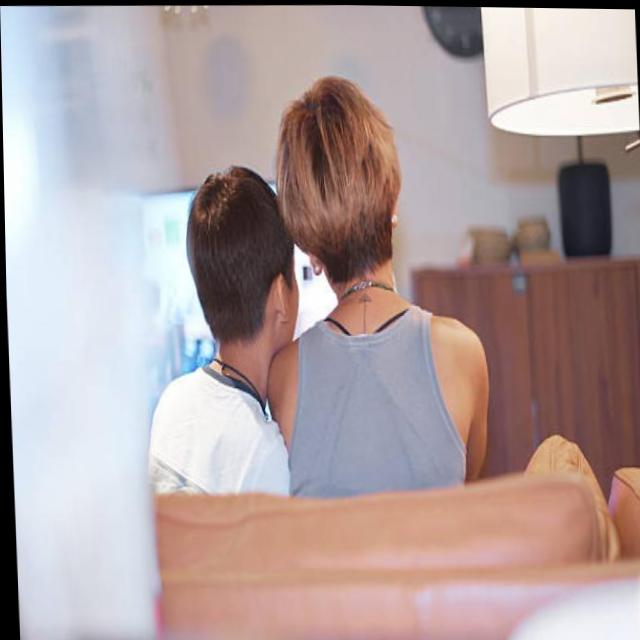no helmet: (272, 75, 406, 290), (180, 154, 295, 374)
